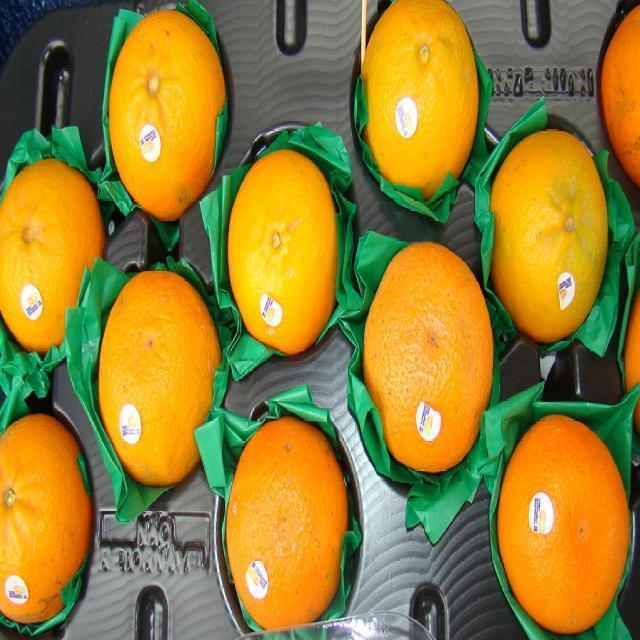Orange: (363, 240, 493, 473), (496, 413, 630, 634), (98, 268, 222, 487), (225, 416, 348, 632), (488, 126, 608, 344), (108, 8, 226, 222), (360, 0, 479, 201), (226, 147, 338, 356), (0, 156, 105, 354), (0, 412, 92, 624), (600, 5, 640, 186), (623, 279, 640, 427)
